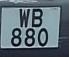0: (37, 27, 50, 48)
8: (10, 27, 23, 48), (24, 28, 37, 48)
B: (30, 7, 45, 28)
W: (18, 7, 31, 29)
